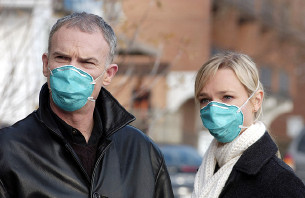face_mask: (48, 29, 104, 110), (197, 73, 244, 142)
